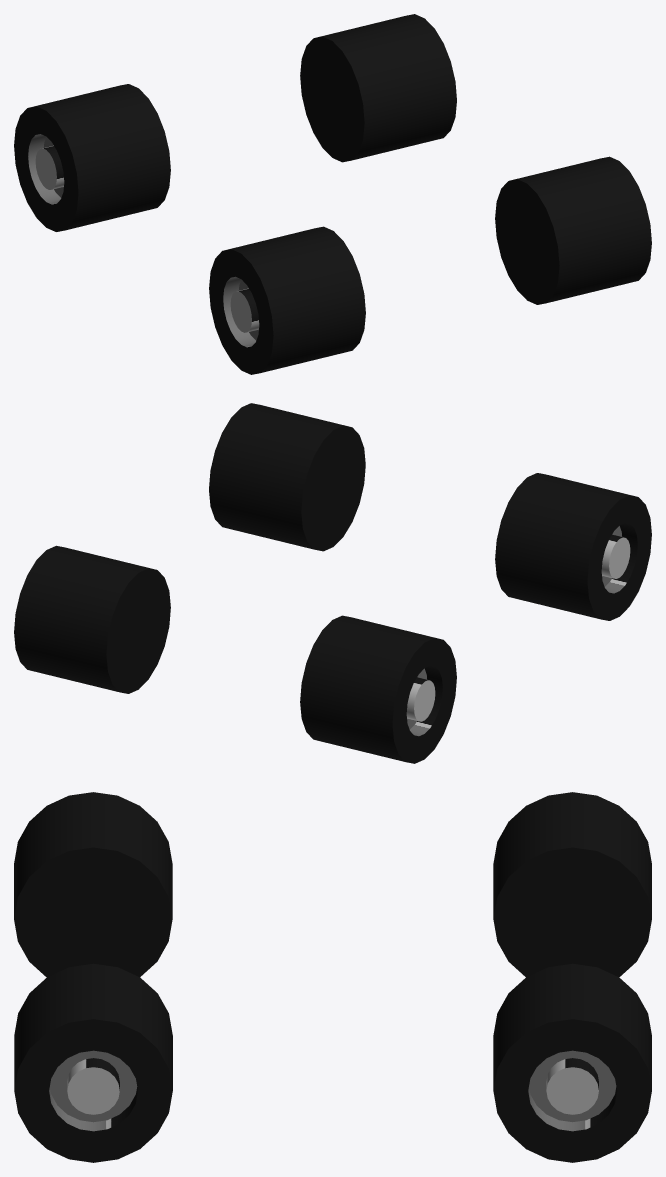
File: CLASSIC-WHEELS-giXB__ca.glb
3 views of the same model, one above another, from view 1: azimuth 30°, elevation 25°; view 2: azimuth 150°, elevation 25°; view 3: azimuth 270°, elevation 25° (orthographic). The views are drawn at different scales.
Size of the model in its own units: 1.68 by 0.4964 by 2.
4 materials, 4 textured.
